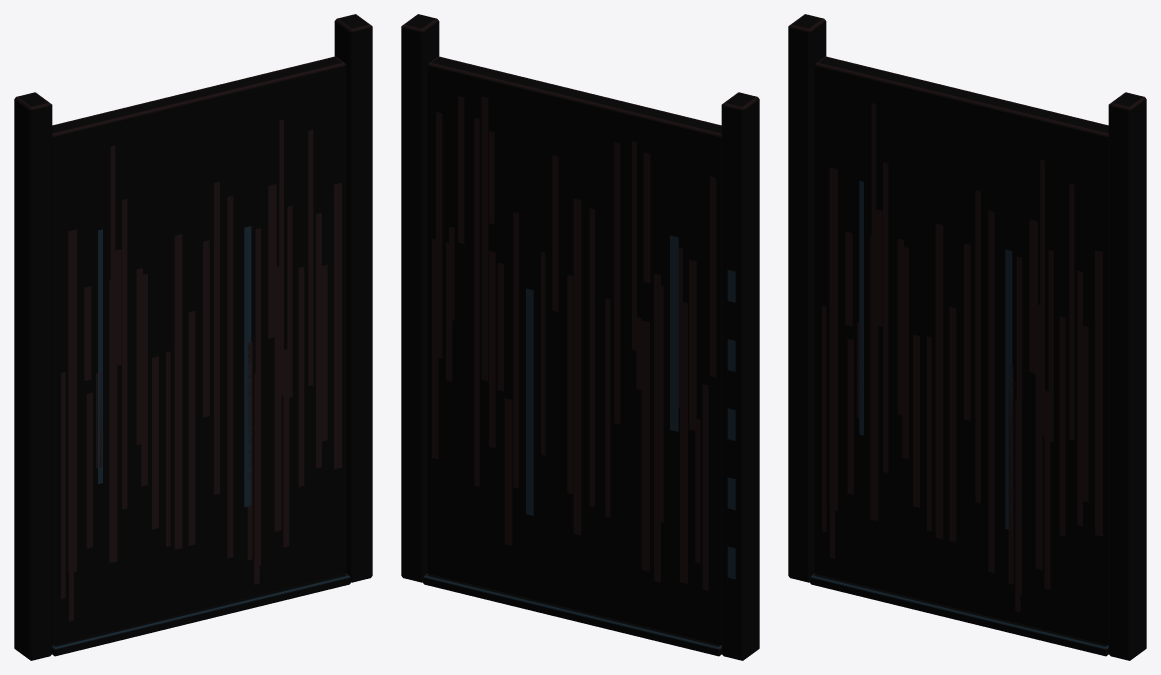
The model's file is barrier_ice.glb.
3 views of the same model, side by side, from view 1: azimuth 30°, elevation 25°; view 2: azimuth 150°, elevation 25°; view 3: azimuth 330°, elevation 25° (orthographic).
Visible parts, largest first — view 1: barrier_ice_panel, barrier_ice_code, barrier_ice_half_l, barrier_ice_post_l, barrier_ice_half_r, barrier_ice_post_r, barrier_ice_frag, barrier_ice_sill; view 2: barrier_ice_panel, barrier_ice_code, barrier_ice_half_l, barrier_ice_half_r, barrier_ice_post_l, barrier_ice_post_r, barrier_ice_frag, barrier_ice_sill; view 3: barrier_ice_panel, barrier_ice_code, barrier_ice_half_r, barrier_ice_half_l, barrier_ice_post_r, barrier_ice_post_l, barrier_ice_frag, barrier_ice_sill.
Part boxes in pixels (box(x1,y1,x2,y2)): barrier_ice_panel: box(52, 56, 346, 645); barrier_ice_code: box(61, 129, 341, 598); barrier_ice_half_l: box(52, 102, 157, 644); barrier_ice_post_l: box(14, 92, 52, 660); barrier_ice_half_r: box(232, 58, 345, 596); barrier_ice_post_r: box(334, 14, 372, 582); barrier_ice_frag: box(69, 119, 321, 621); barrier_ice_sill: box(52, 573, 350, 656); barrier_ice_panel: box(427, 56, 721, 645); barrier_ice_code: box(432, 96, 716, 583); barrier_ice_half_l: box(616, 102, 721, 644); barrier_ice_half_r: box(428, 57, 542, 598); barrier_ice_post_l: box(721, 92, 759, 660); barrier_ice_post_r: box(401, 14, 439, 582); barrier_ice_frag: box(436, 112, 708, 590); barrier_ice_sill: box(423, 573, 721, 656); barrier_ice_panel: box(814, 56, 1108, 645); barrier_ice_code: box(822, 162, 1102, 594); barrier_ice_half_r: box(1003, 102, 1108, 644); barrier_ice_half_l: box(815, 57, 929, 598); barrier_ice_post_r: box(1108, 92, 1146, 660); barrier_ice_post_l: box(788, 14, 826, 582); barrier_ice_frag: box(830, 103, 1082, 612); barrier_ice_sill: box(810, 573, 1108, 656).
Bounding box in the file's own units: 1.04 × 1.6 × 0.1.
